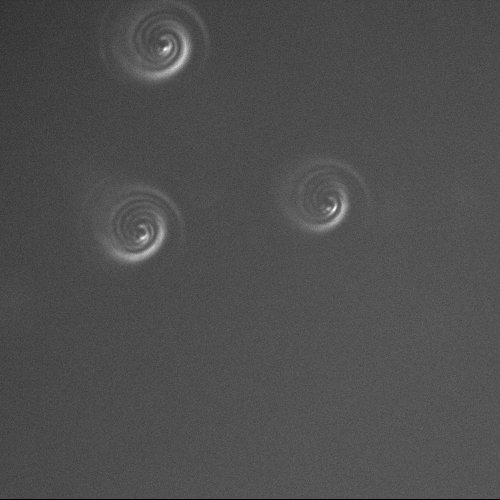spot: (73, 178, 195, 274), (98, 1, 217, 95), (272, 149, 376, 238)
